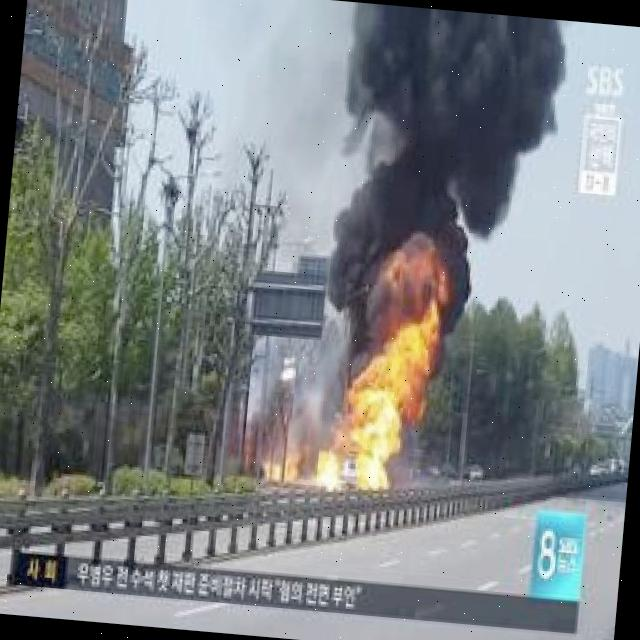fire: (337, 374, 396, 492), (387, 308, 438, 390), (316, 441, 338, 491), (393, 389, 421, 426), (262, 456, 300, 483)
